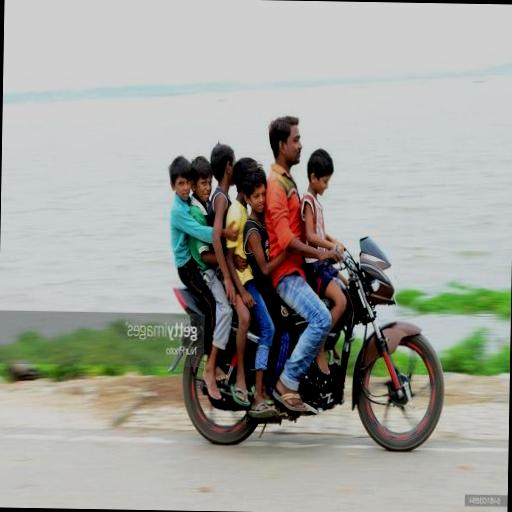no helmet: (266, 114, 306, 190)
triple riding: (156, 110, 448, 448)
